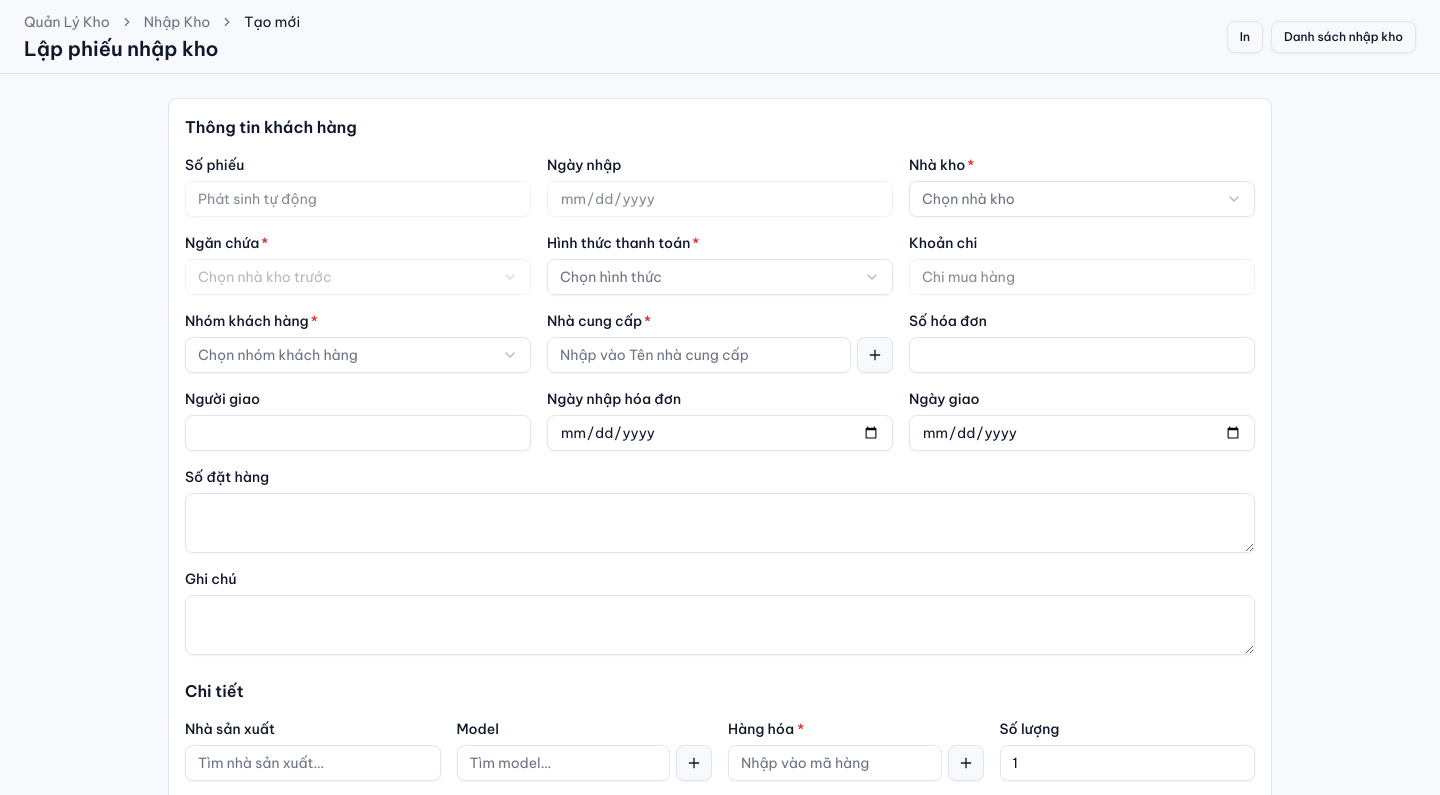
Test: NhapKhoCreatePage › Nhóm khách hàng offers the 9 verified options
Click the dropdown labelled "Chọn nhóm khách hàng" at point(358, 355), box top-left (185, 337), bottom-right (531, 373)
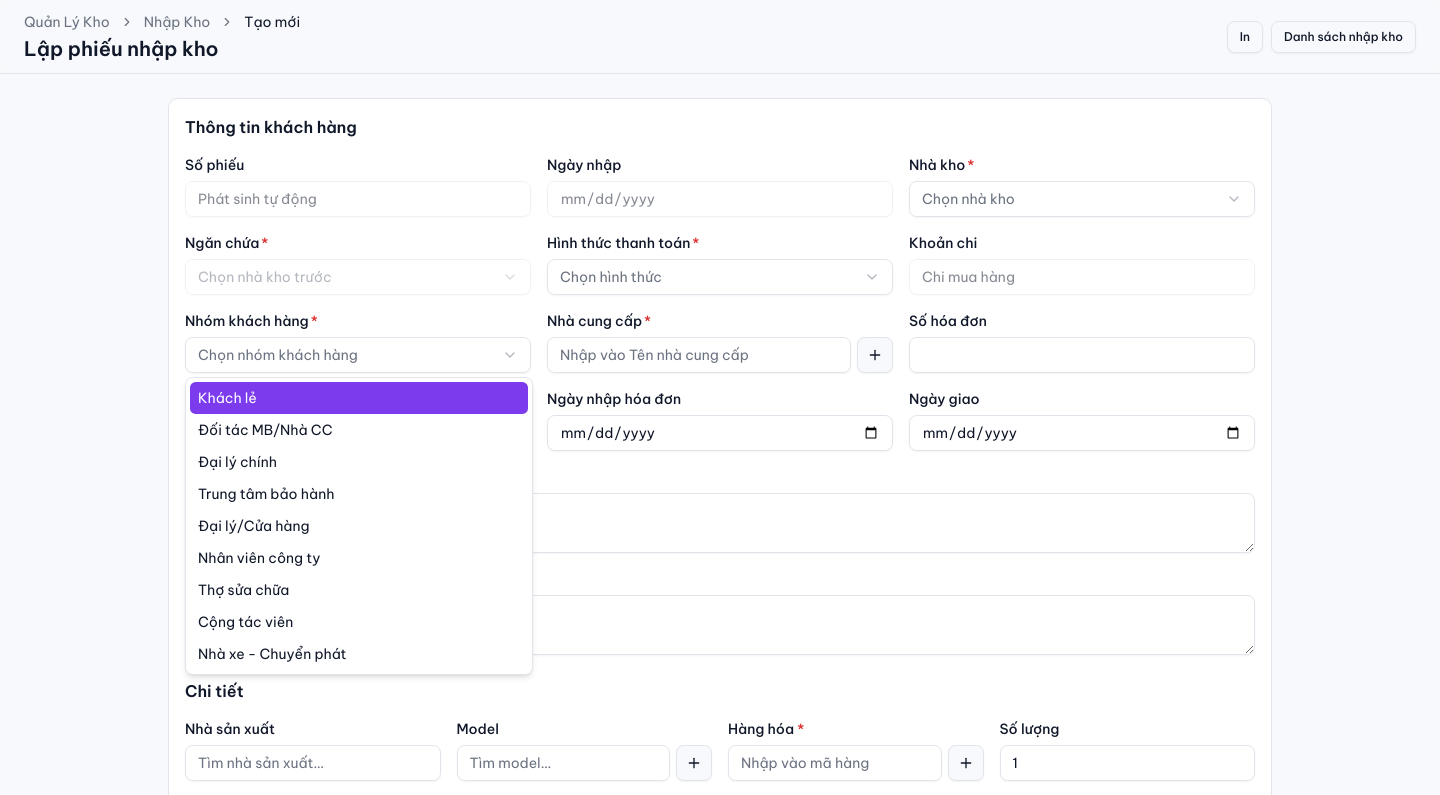
Check: the text "Khách lẻ" is shown, box top-left (198, 388), bottom-right (257, 408)
Check: the text "Đối tác MB/Nhà CC" is shown, box top-left (198, 420), bottom-right (332, 440)
Check: the text "Đại lý chính" is shown, box top-left (198, 452), bottom-right (277, 472)
